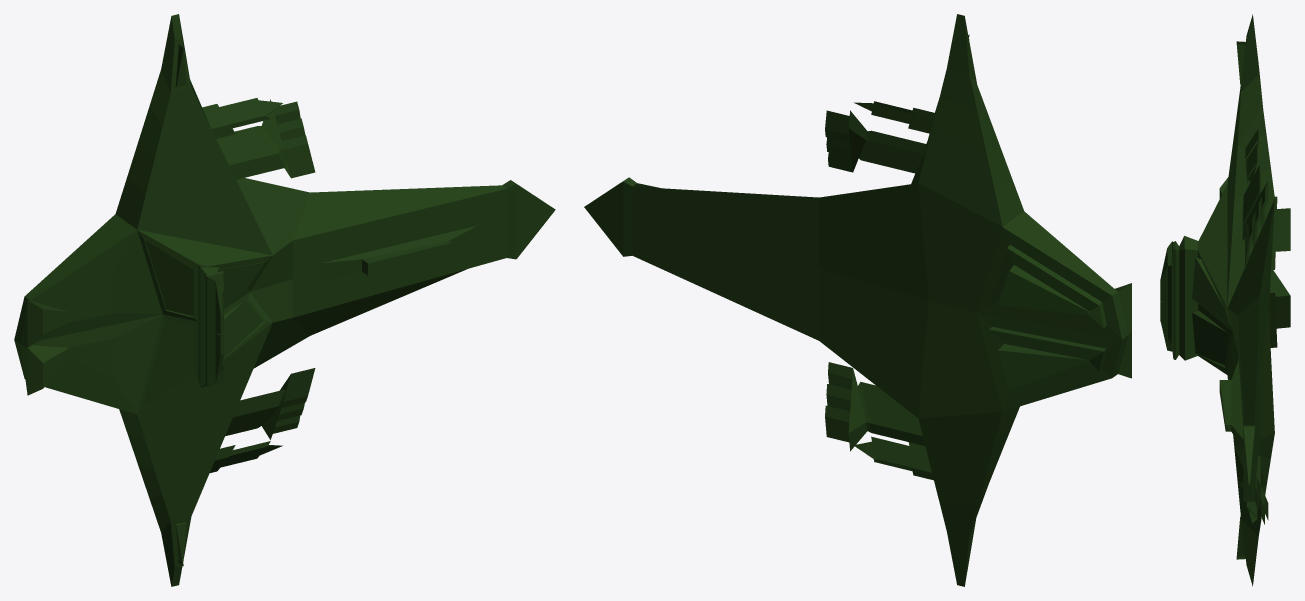
The model's file is spaceship1.glb.
The picture shows the model from 3 angles, left to right: view 1: azimuth 30°, elevation 25°; view 2: azimuth 150°, elevation 25°; view 3: azimuth 270°, elevation 25°; orthographic projection.
Parts seen in each view (by area): view 1: SpaceShip; view 2: SpaceShip; view 3: SpaceShip.
Boxes of the visible parts, <box> form: SpaceShip: <box>14,14,555,586</box>; SpaceShip: <box>584,14,1131,586</box>; SpaceShip: <box>1160,14,1290,586</box>.
Size of the model in its own units: 1.22 by 1.24 by 0.2569.
Materials: 1 (1 with a texture image).
